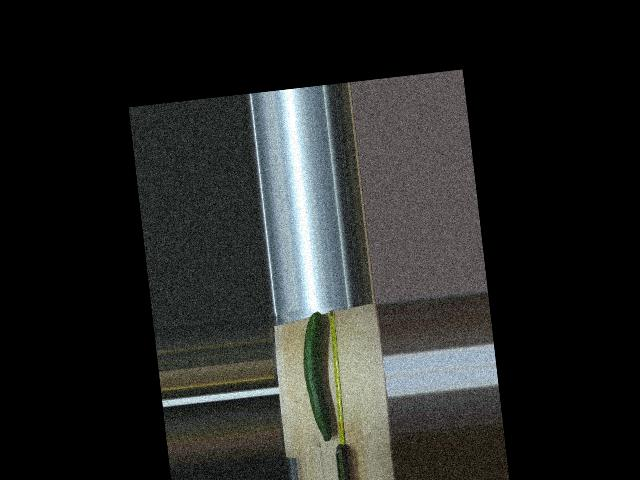cucumber: (297, 311, 337, 443)
